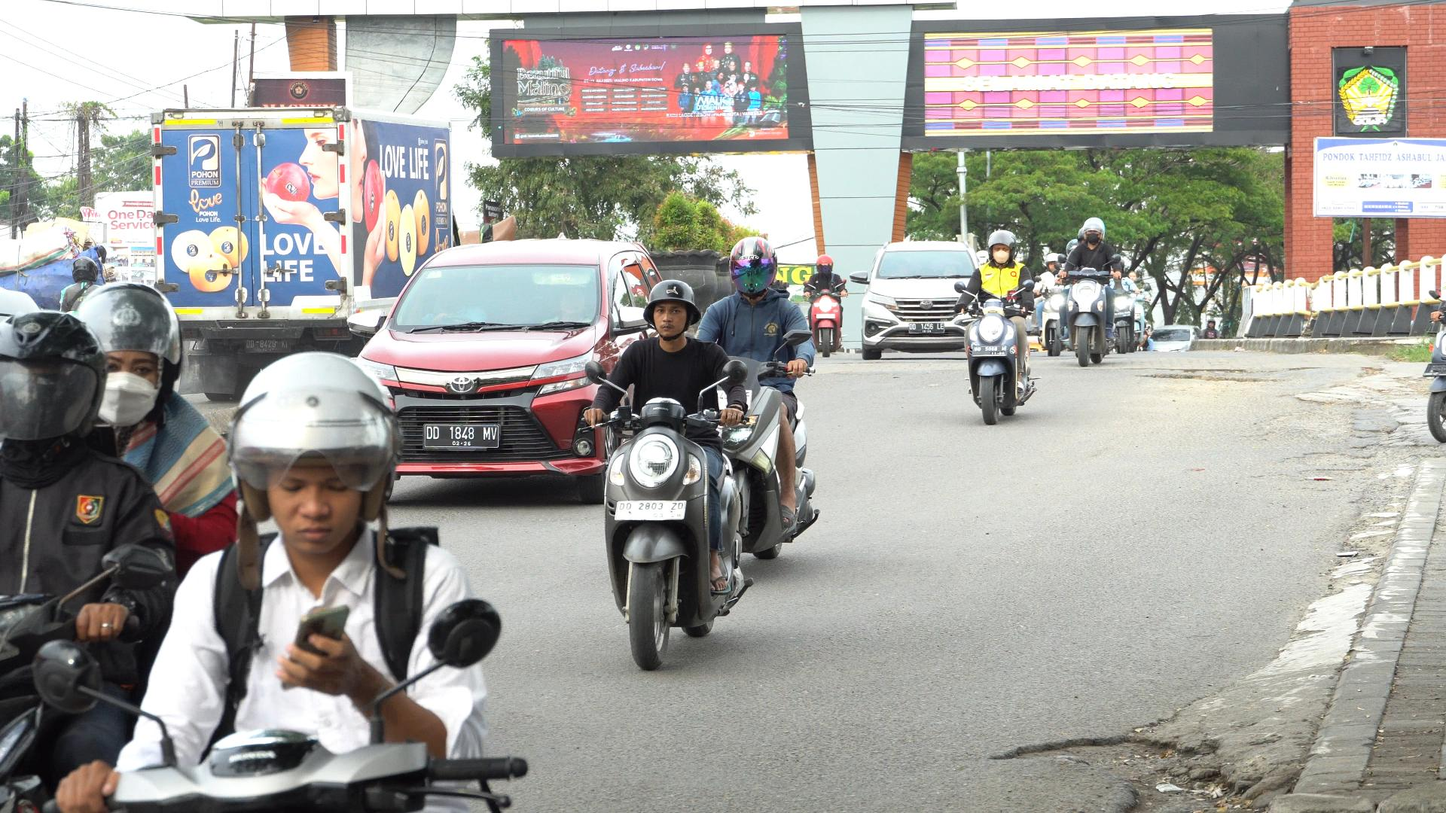number-plate: (615, 499, 685, 523)
